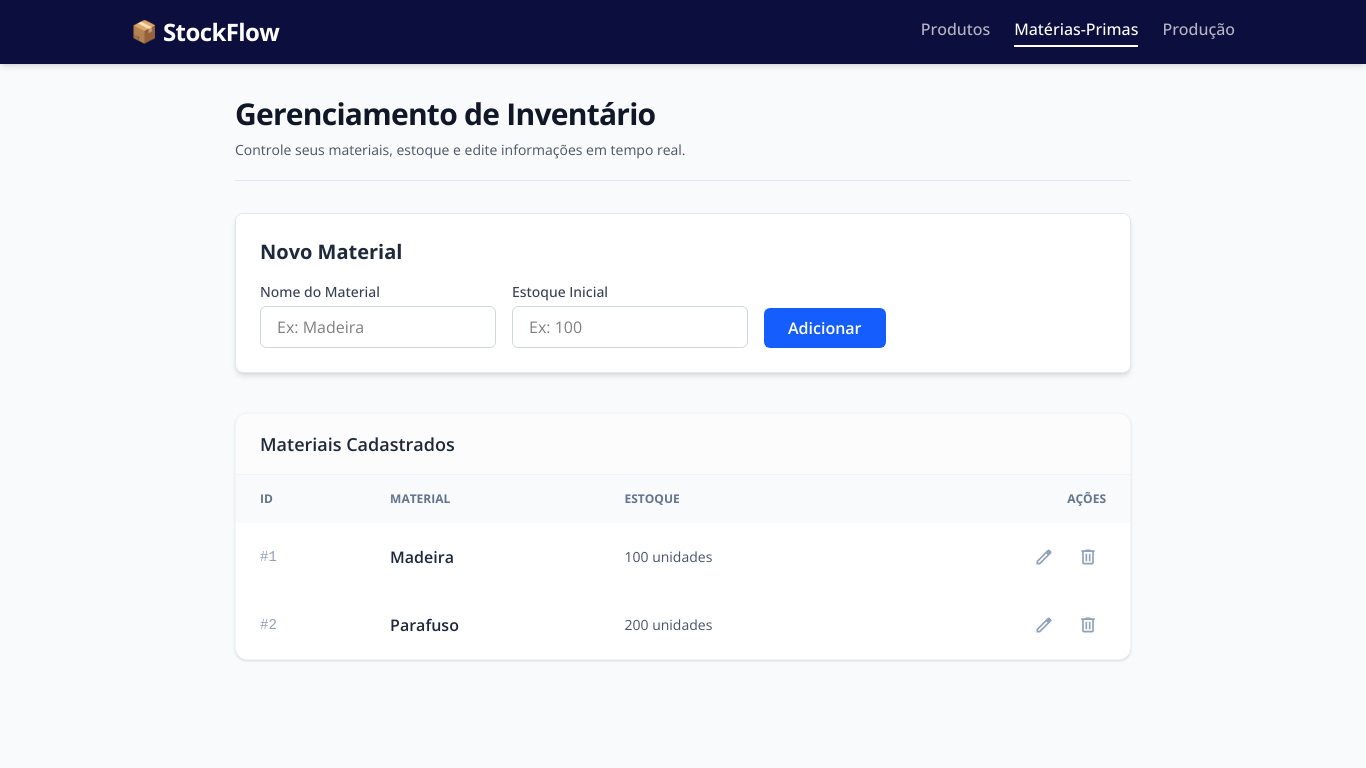
Materials E2E › should create a new material
The image size is (1366, 768).
Type "Borracha" into the field with test id "input-material-name" at (378, 327), box [260, 306, 496, 348]
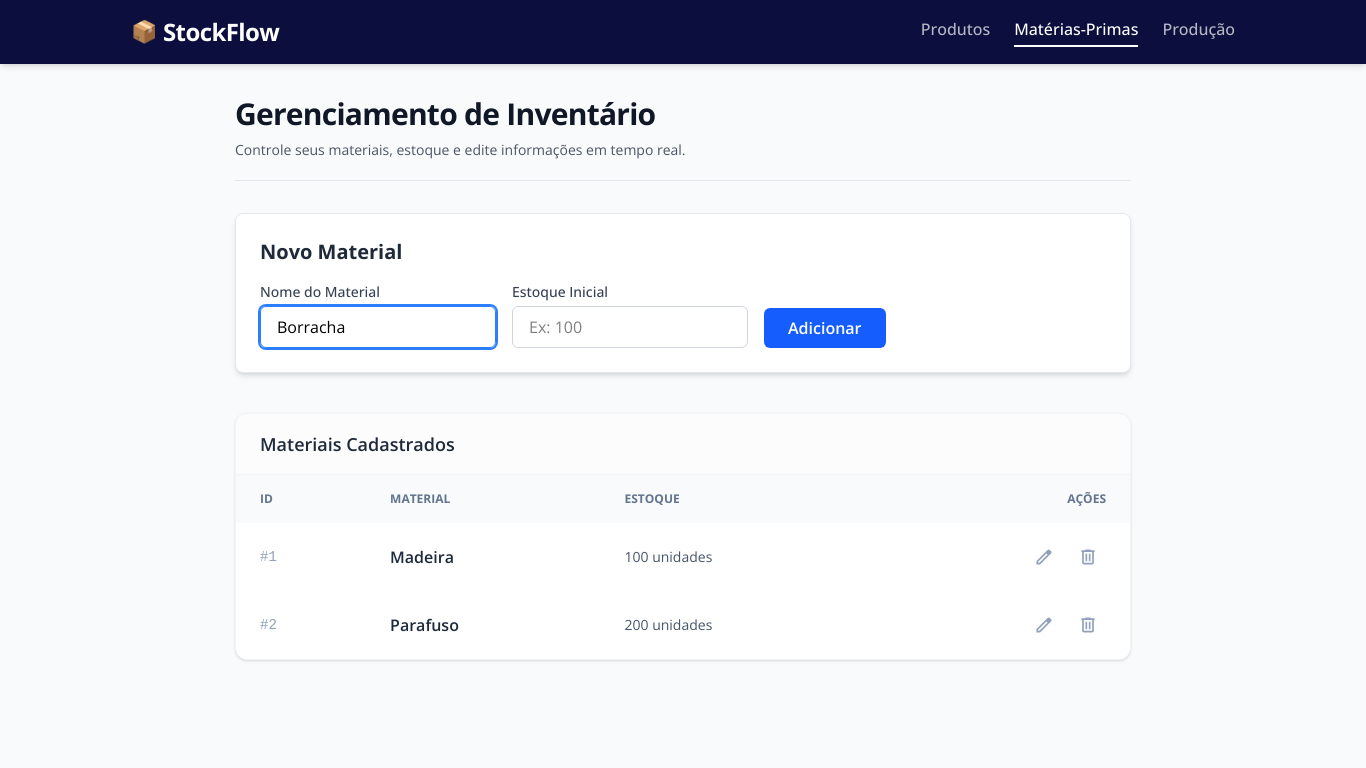
Type "100" into the number field with test id "input-material-stock" at (630, 327), box [512, 306, 748, 348]
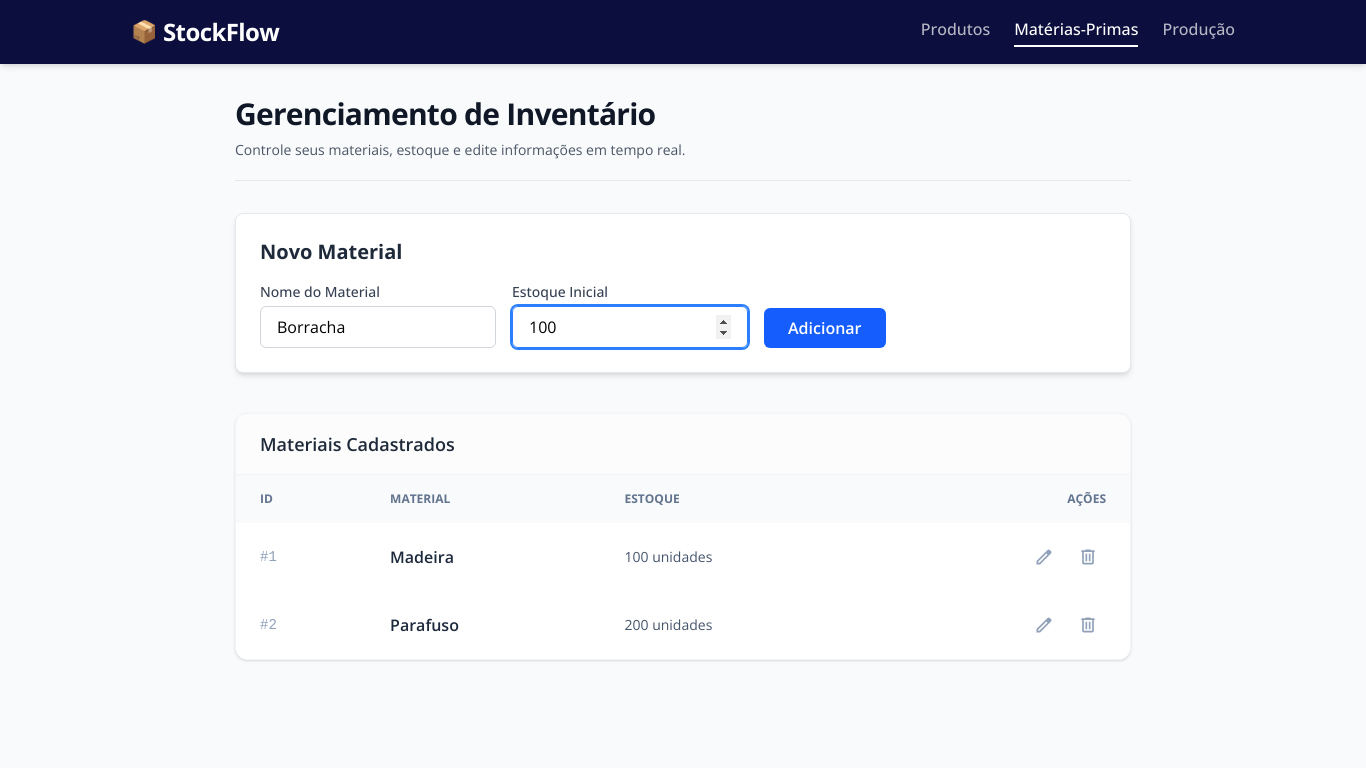
Click the button with test id "btn-save-material" at (825, 328), box [764, 308, 886, 348]
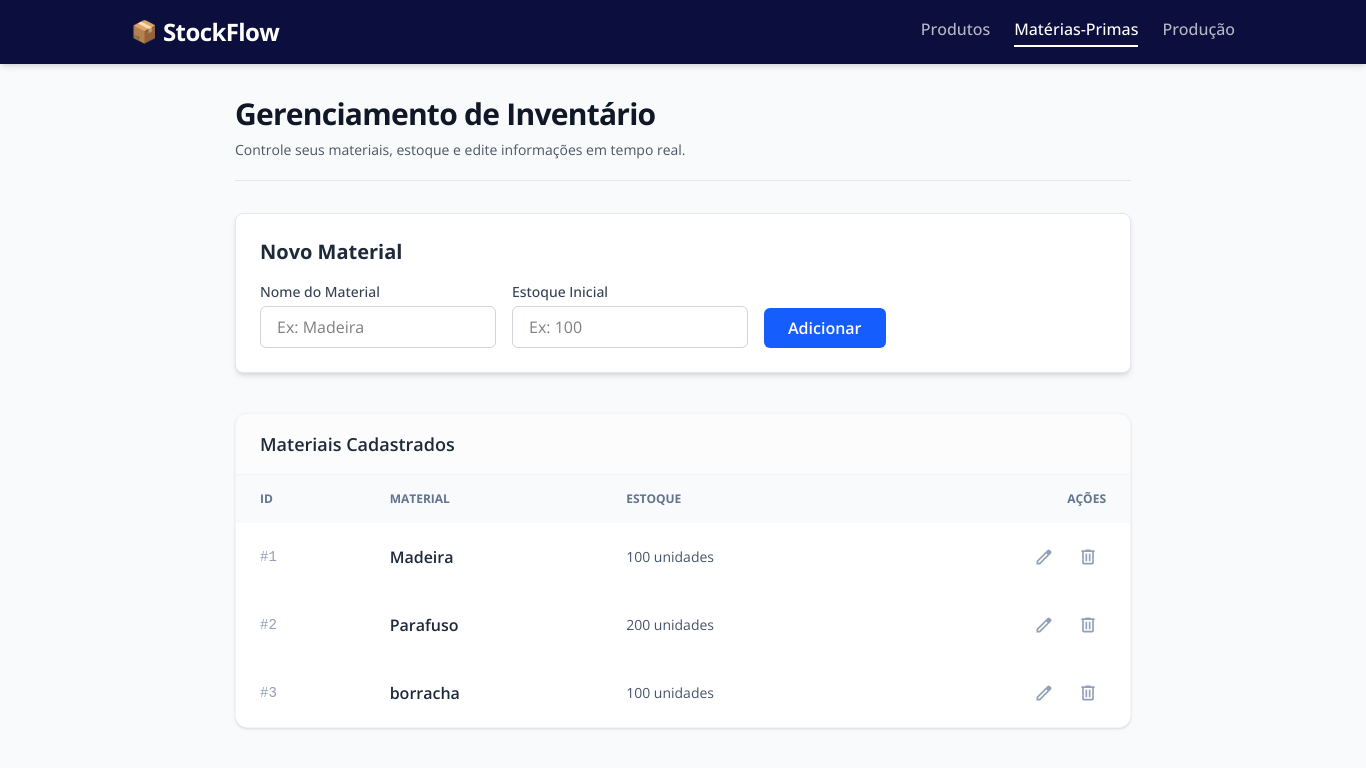
Check: the text "borracha" is shown, box [366, 659, 602, 727]
